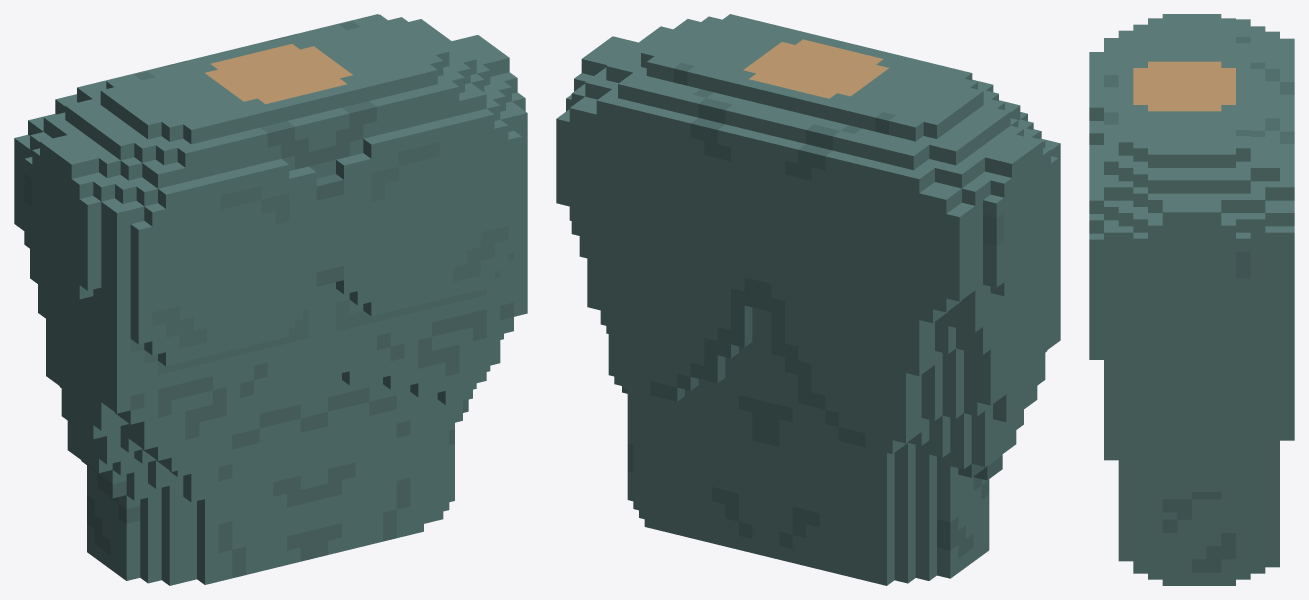
The model's file is Hero-12.obj.
The picture shows the model from 3 angles, left to right: view 1: azimuth 30°, elevation 25°; view 2: azimuth 150°, elevation 25°; view 3: azimuth 270°, elevation 25°; orthographic projection. The views are drawn at different scales.
Bounding box in the file's own units: 3.2 × 3.2 × 1.4.
Materials: 1 (1 with a texture image).
